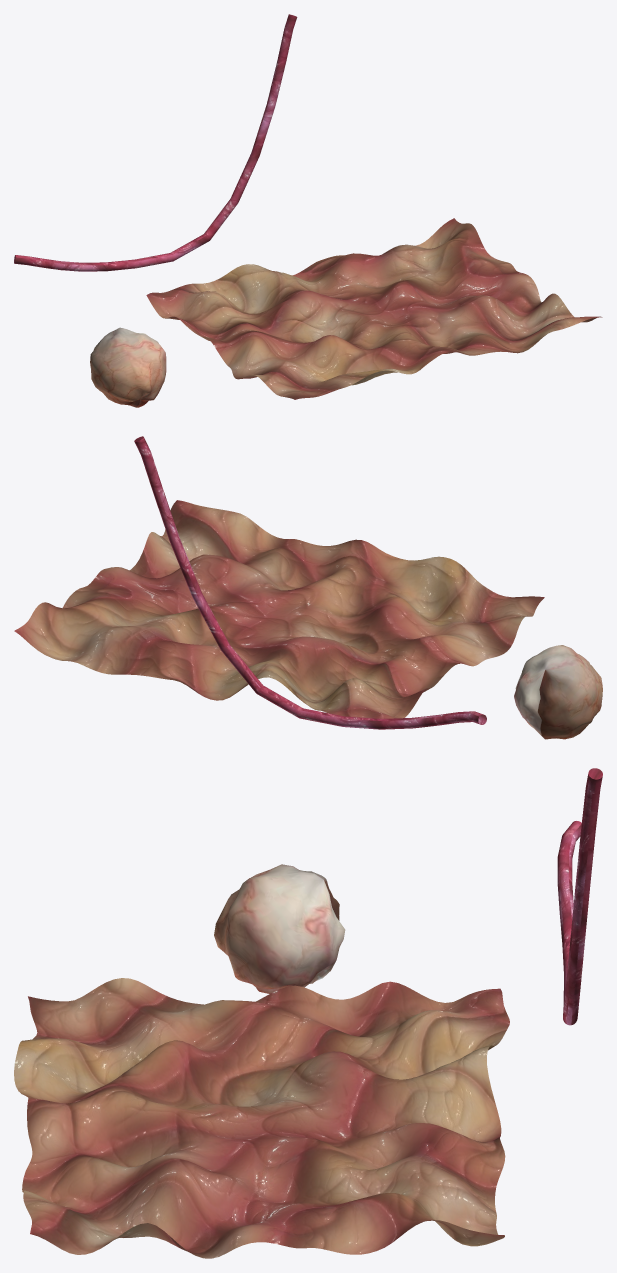
File: vlesigheid.FBX
The picture shows the model from 3 angles, top to bottom: view 1: azimuth 30°, elevation 25°; view 2: azimuth 150°, elevation 25°; view 3: azimuth 270°, elevation 25°; orthographic projection. The views are drawn at different scales.
Visible parts, largest first — view 1: Plane001, Sphere001, Line001; view 2: Plane001, Sphere001, Line001; view 3: Plane001, Sphere001, Line001.
Boxes of the visible parts, box(x1,y1,x2,y2) form: Plane001: box(146, 218, 602, 399); Sphere001: box(90, 327, 166, 407); Line001: box(14, 14, 297, 271); Plane001: box(14, 500, 544, 718); Sphere001: box(514, 645, 602, 739); Line001: box(134, 436, 486, 729); Plane001: box(14, 978, 509, 1258); Sphere001: box(214, 864, 345, 993); Line001: box(557, 768, 602, 1025).
Size of the model in its own units: 261 by 150 by 187.
3 materials, 3 textured.
